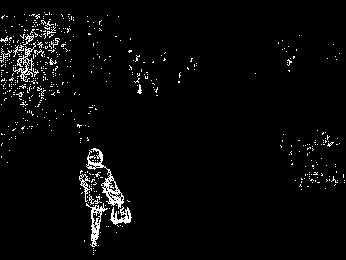person: (76, 148, 133, 249)
